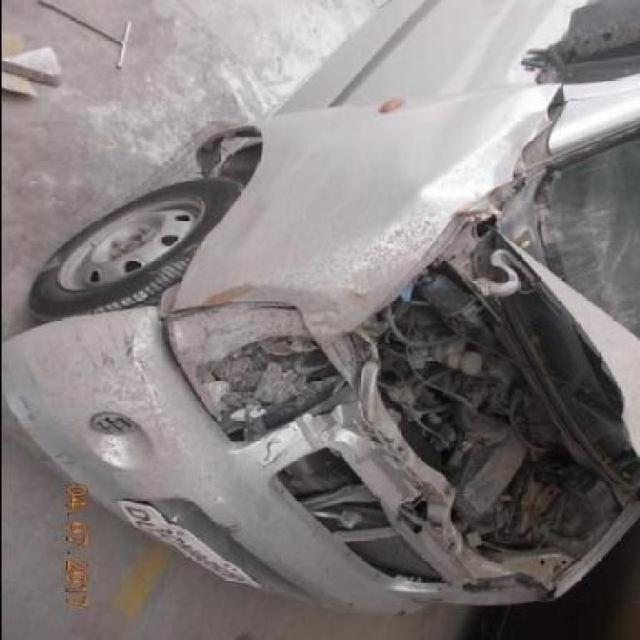damage: (187, 85, 514, 183), (156, 294, 353, 452), (261, 449, 452, 593), (245, 324, 381, 475), (500, 86, 566, 179), (79, 327, 155, 407), (414, 576, 553, 610), (36, 451, 78, 467), (20, 365, 40, 392), (17, 393, 36, 419), (216, 523, 241, 539)
